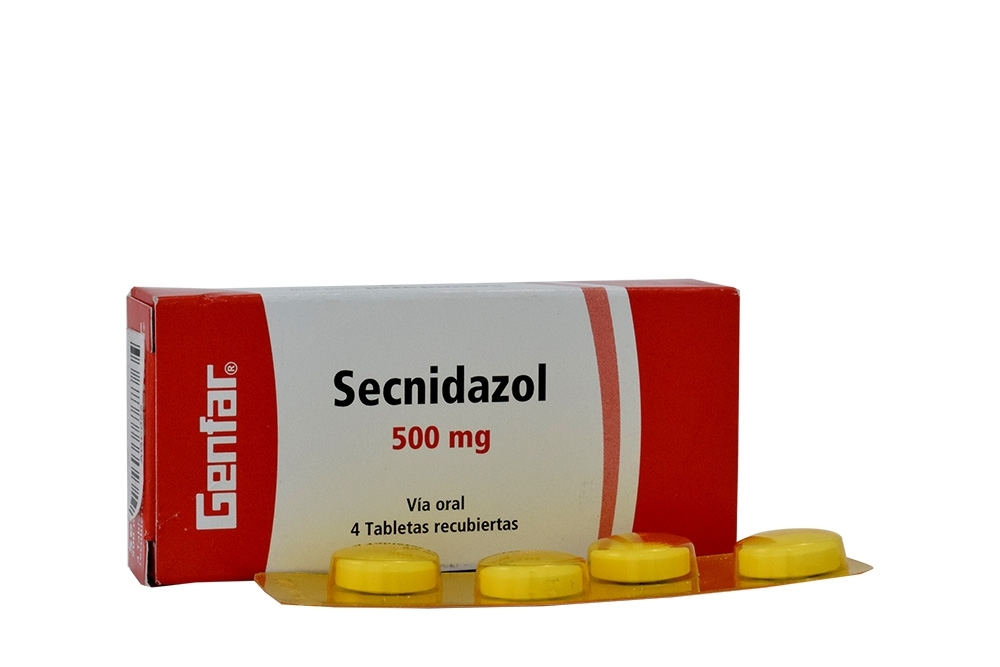Genfar: (149, 296, 738, 582)
